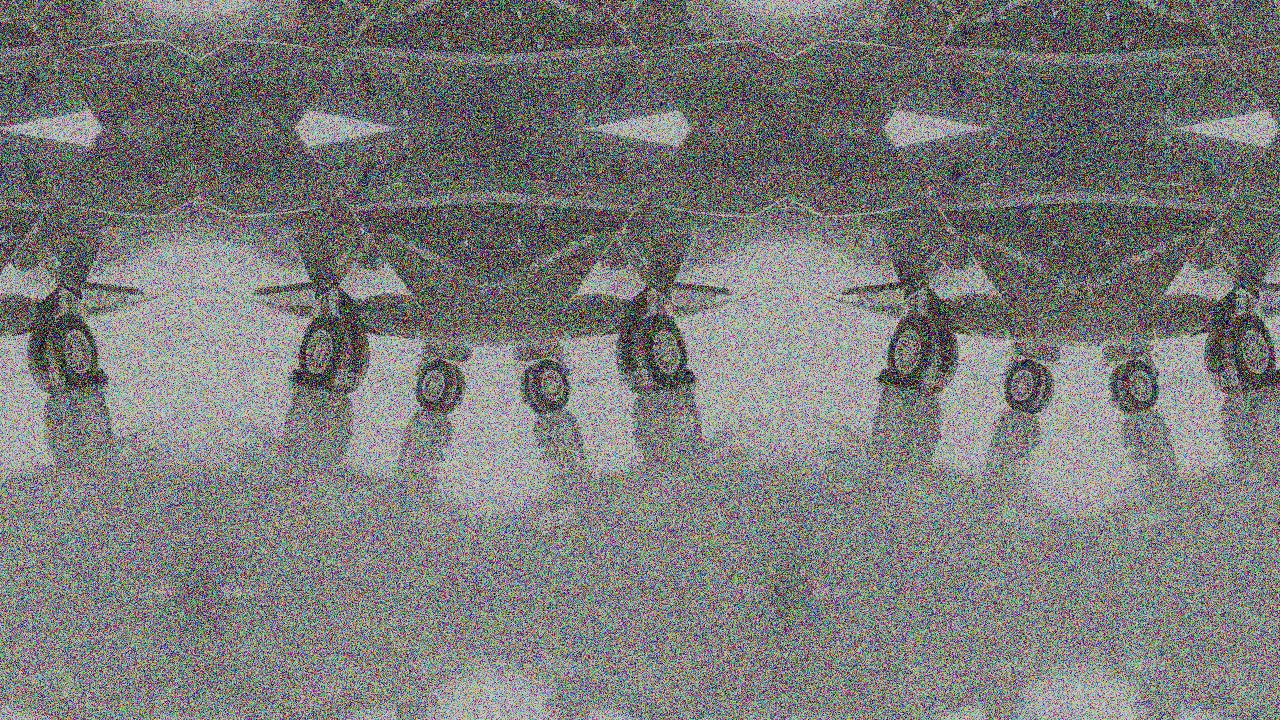chock: (47, 374, 78, 400), (318, 374, 349, 400), (907, 374, 938, 400), (1226, 374, 1257, 400), (637, 374, 667, 400), (83, 364, 110, 386), (286, 364, 313, 386), (875, 364, 902, 386), (673, 364, 699, 386), (1262, 364, 1280, 386)
wheel: (630, 309, 695, 393), (41, 309, 105, 393), (291, 309, 355, 393), (880, 309, 944, 393), (1220, 309, 1280, 393), (410, 354, 470, 418), (515, 354, 575, 418), (999, 354, 1059, 418), (1105, 354, 1165, 418), (20, 322, 68, 398), (328, 322, 376, 398), (917, 322, 965, 398), (1199, 322, 1247, 398), (610, 322, 657, 398), (435, 363, 471, 416), (515, 363, 550, 416), (1025, 363, 1060, 416), (1104, 363, 1139, 416)
